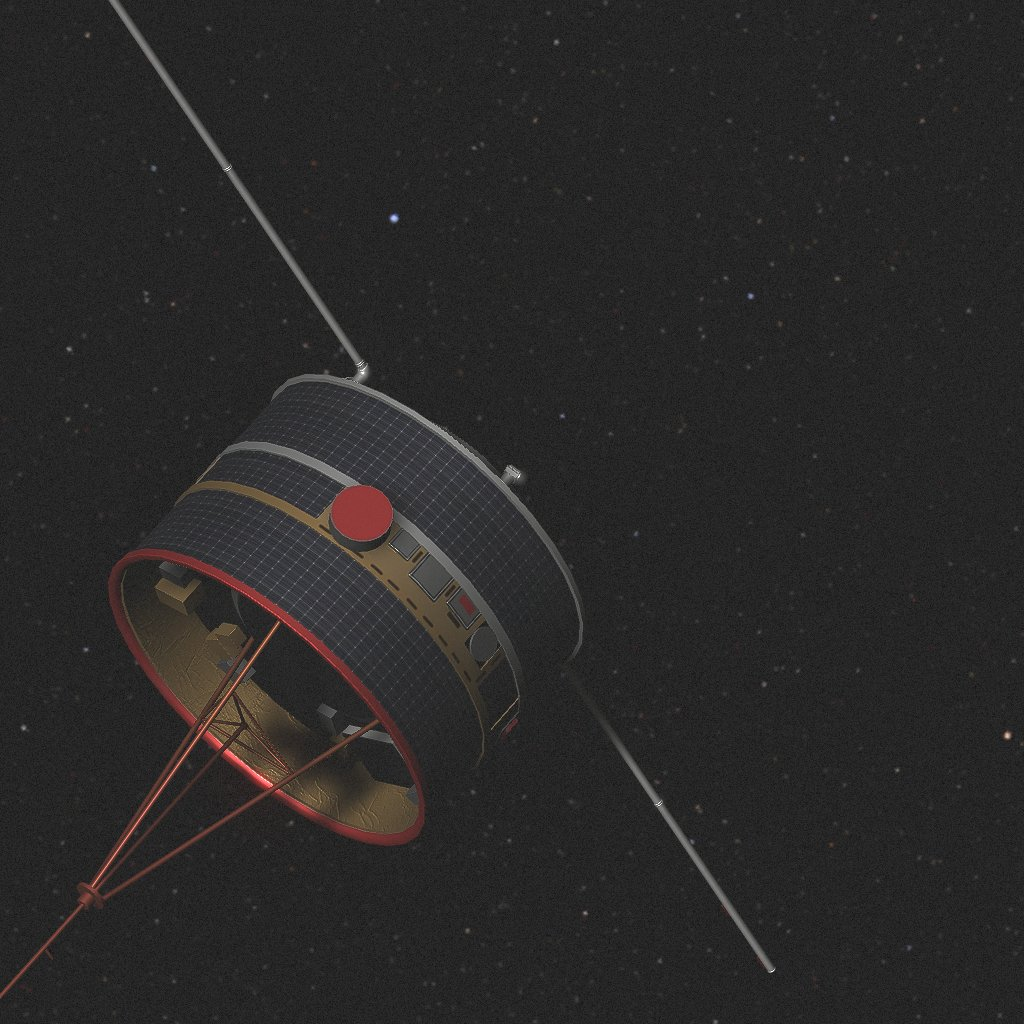double_star: (0, 0, 776, 1000)
